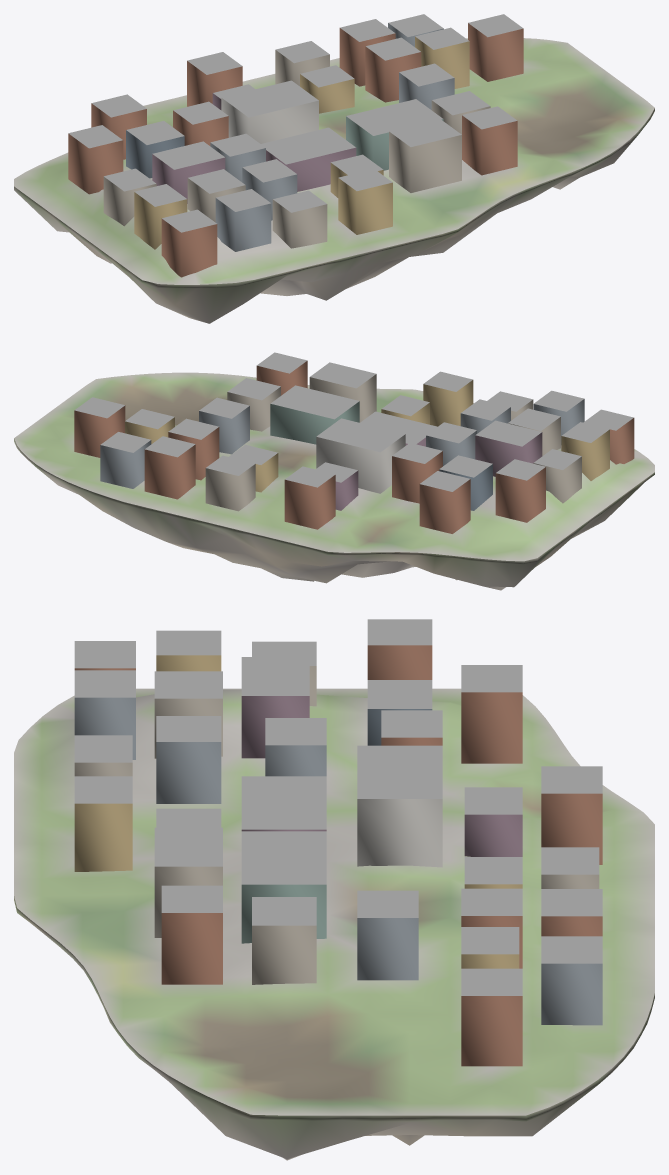
Rendered from SKY-007.lod1.glb.
3 renders of one model, top to bottom at view 1: azimuth 30°, elevation 25°; view 2: azimuth 150°, elevation 25°; view 3: azimuth 270°, elevation 25°, orthographic. The views are drawn at different scales.
Visible parts, largest first — view 1: buildings, deck, rock; view 2: buildings, deck, rock; view 3: buildings, deck, rock.
Boxes of the visible parts, x1,y1,x2,y2 form: buildings: [68, 14, 523, 277]; deck: [14, 38, 654, 284]; rock: [14, 108, 654, 323]; buildings: [74, 352, 634, 533]; deck: [14, 372, 654, 561]; rock: [14, 439, 654, 590]; buildings: [74, 619, 602, 1066]; deck: [14, 688, 654, 1115]; rock: [14, 896, 654, 1160].
Bounding box in the file's own units: 296 × 92.73 × 188.
